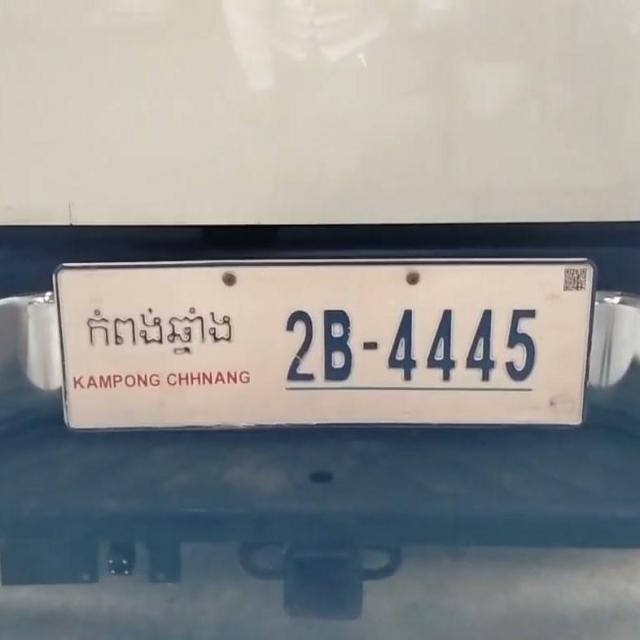Kampong_Chhnang: (85, 302, 236, 362)
